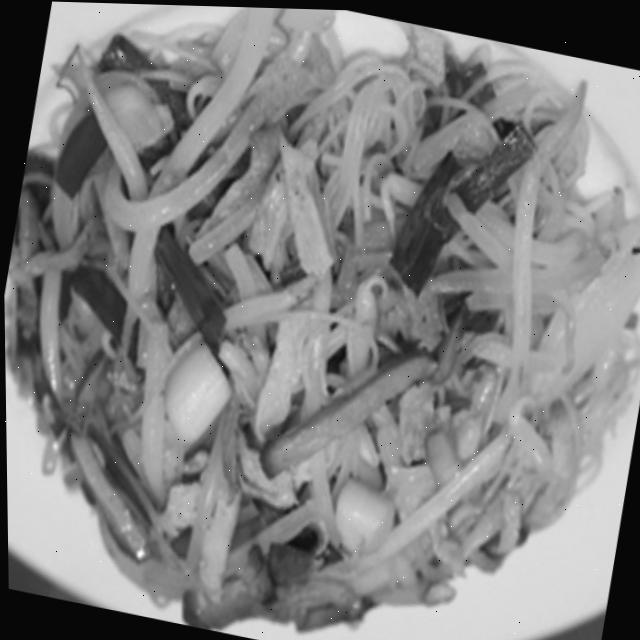熟制海鲜: (1, 66, 640, 607)
